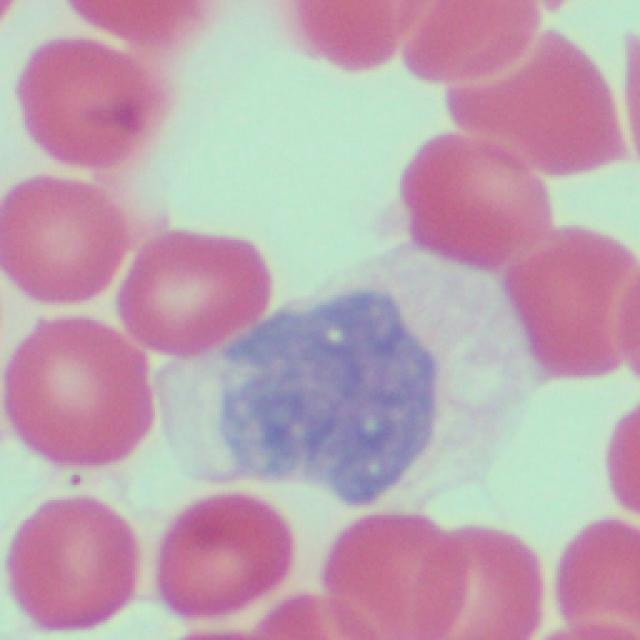RBC: (320, 505, 545, 640), (490, 8, 640, 188), (0, 312, 147, 471), (17, 39, 162, 194), (391, 122, 539, 272), (504, 216, 638, 380), (147, 479, 284, 634), (119, 217, 254, 363), (2, 494, 141, 634), (1, 174, 125, 310), (378, 0, 542, 87), (546, 509, 637, 637), (272, 0, 414, 73)
WBC: (146, 263, 491, 502)
